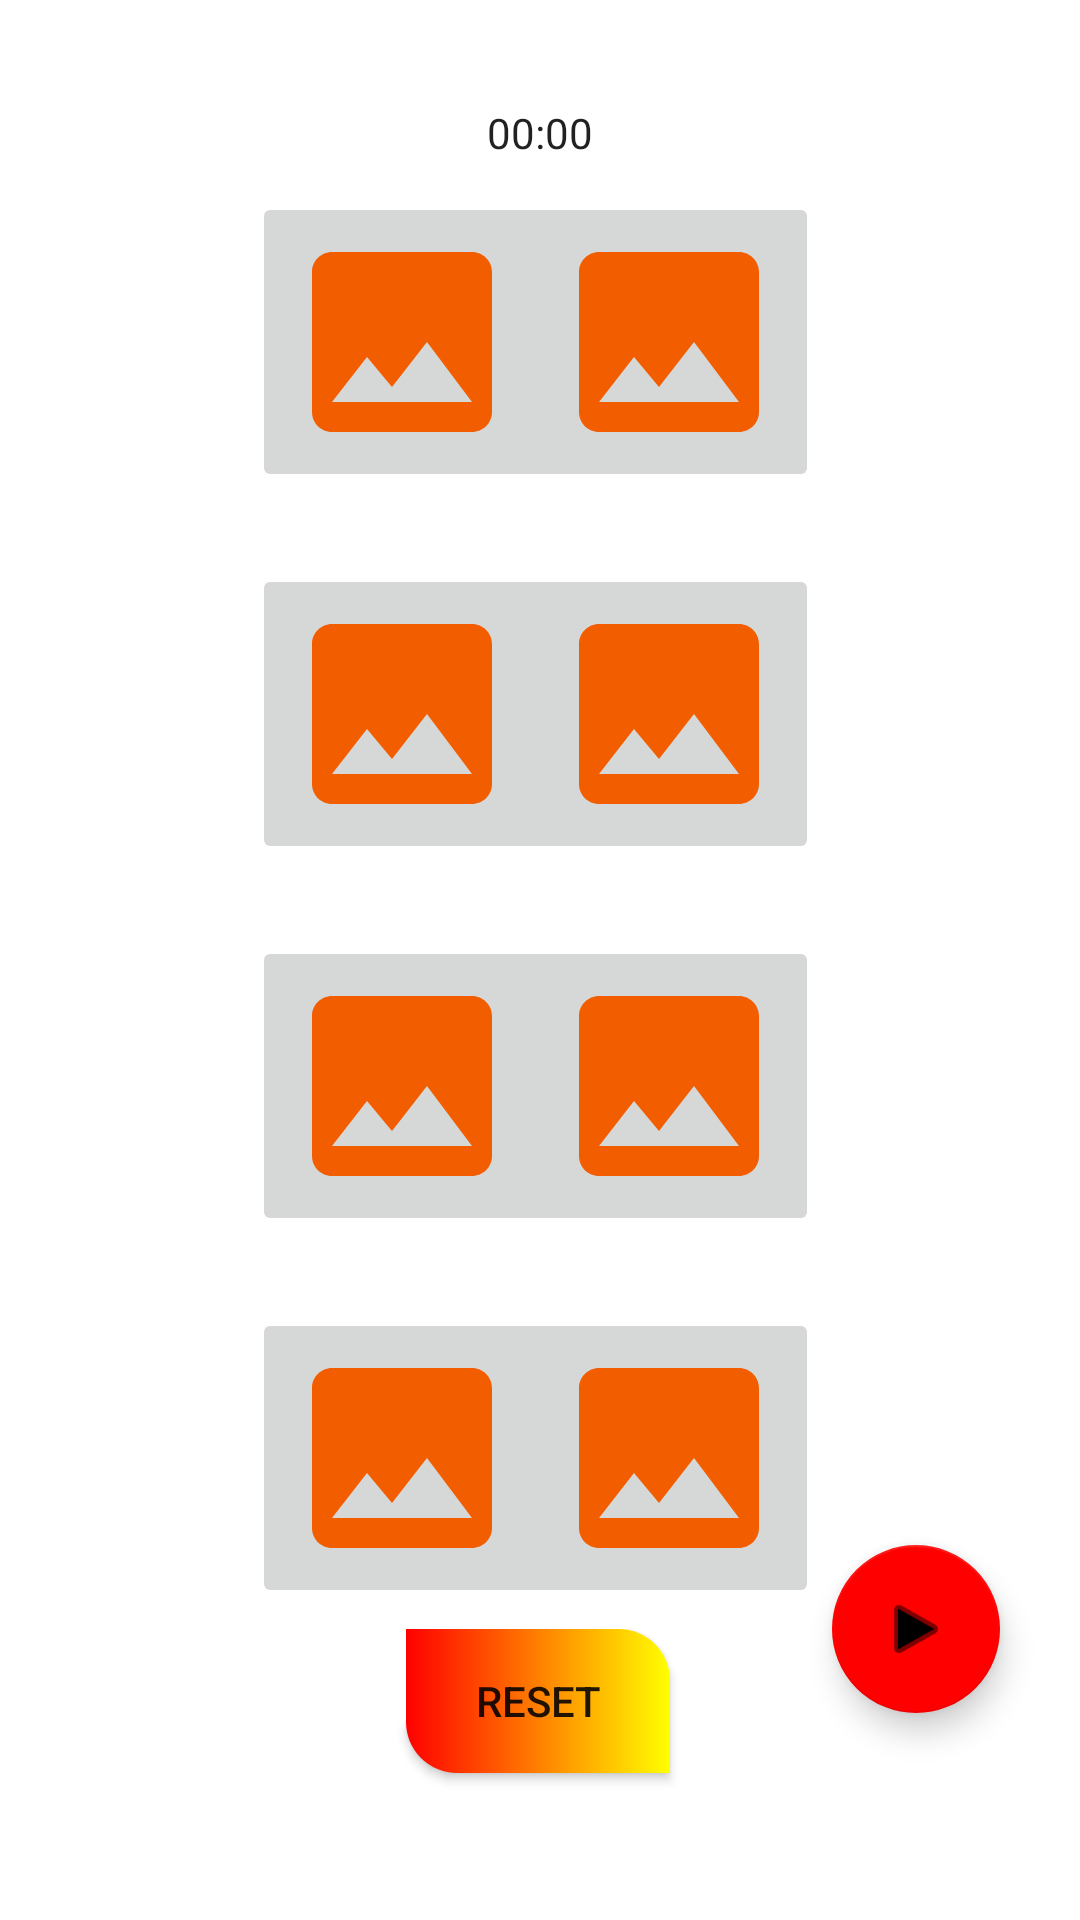

Named icons in this screenshot (1080 x 1920) and their bounding boxes, (x1, y1, x2, y2):
photo: (264, 210, 552, 474), (519, 210, 807, 474), (264, 582, 552, 846), (519, 582, 807, 846), (264, 954, 552, 1218), (519, 954, 807, 1218), (264, 1326, 552, 1590), (519, 1326, 807, 1590)
play: (832, 1545, 1000, 1713)
